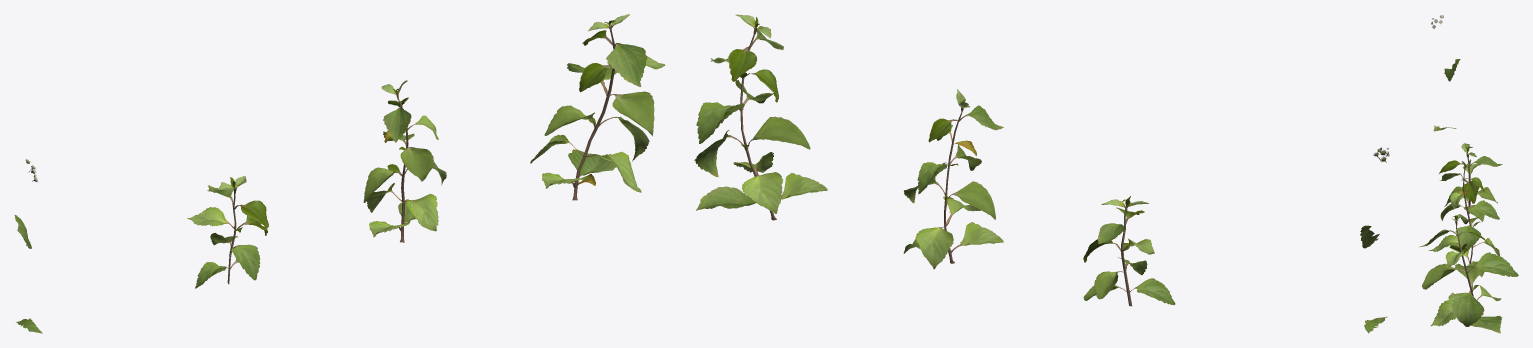
File: shrub_01.glb
3 views of the same model, side by side, from view 1: azimuth 30°, elevation 25°; view 2: azimuth 150°, elevation 25°; view 3: azimuth 270°, elevation 25° (orthographic). The views are drawn at different scales.
Parts seen in each view (by area): view 1: shrub_01; view 2: shrub_01; view 3: shrub_01.
Part boxes in pixels (x1,y1,x2,y2): shrub_01: (14,14,665,333); shrub_01: (694,14,1389,333); shrub_01: (1419,15,1518,333).
Size of what is drawn, in the model's own units: 4.85 by 1.4 by 0.9886.
1 material, 1 textured.
